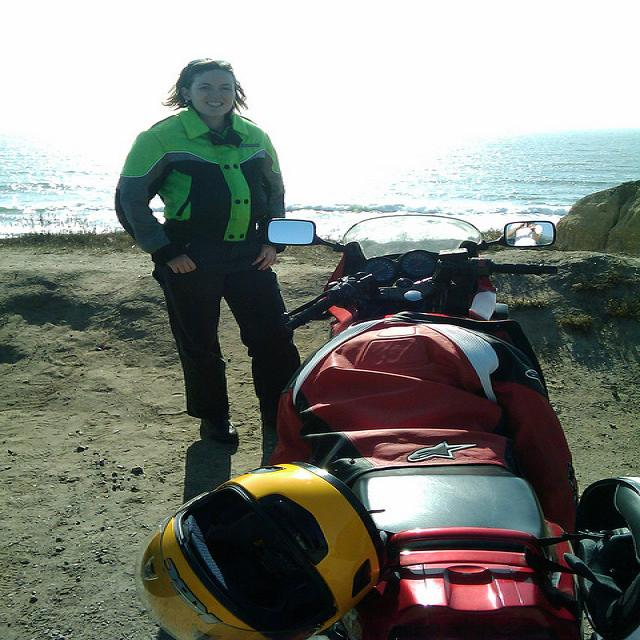motor: (128, 213, 640, 633)
